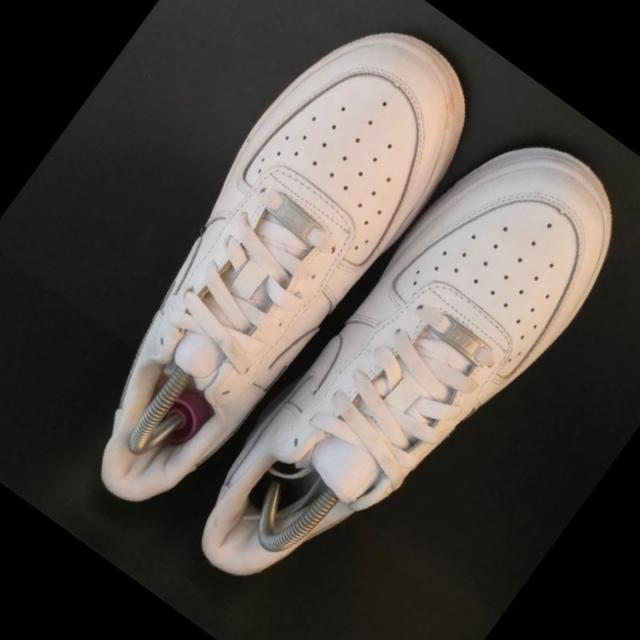nike fake air force: (28, 0, 505, 541), (178, 103, 640, 640)
